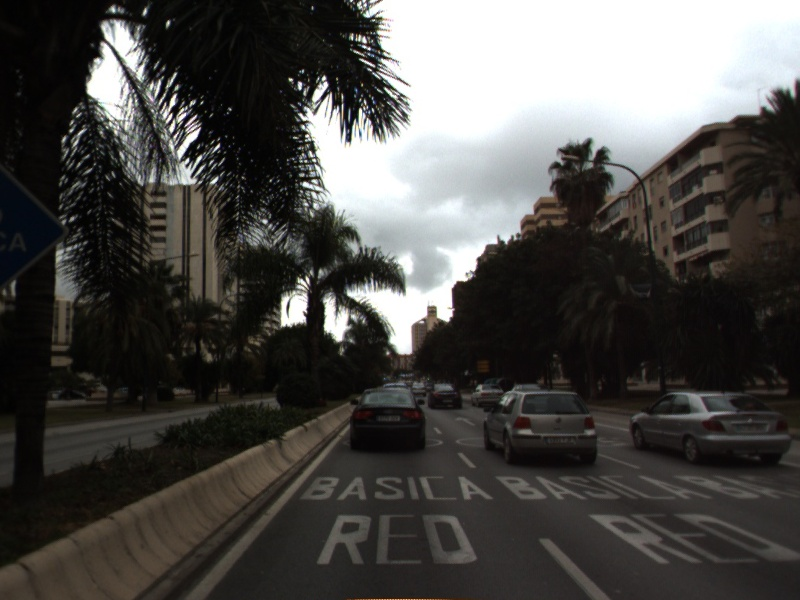STRAIGHT: (452, 413, 478, 428)
